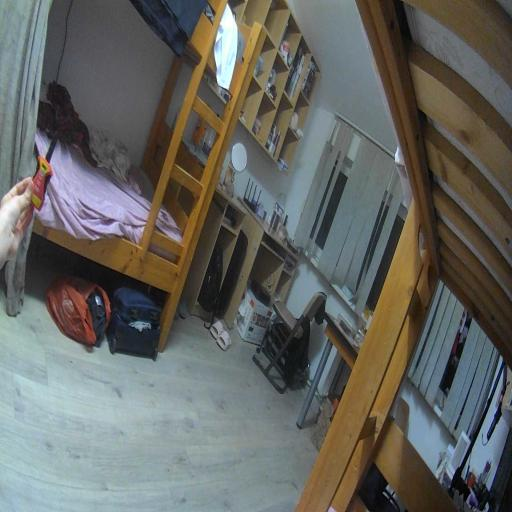Super Glue: (30, 132, 58, 212)
